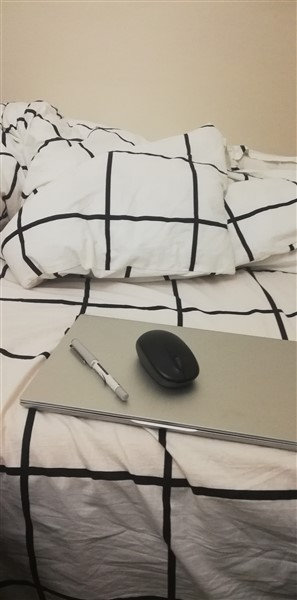laptop: (19, 306, 297, 461)
mouse: (132, 329, 203, 390)
pilot kalem: (67, 338, 134, 405)
